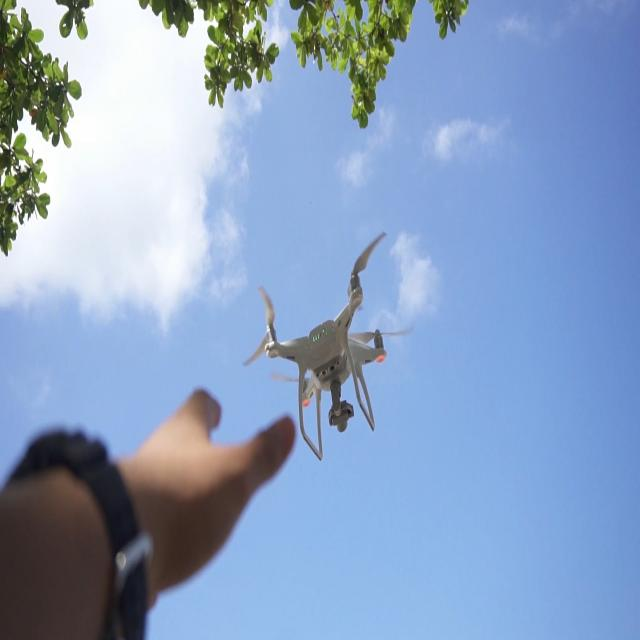Drone: (264, 260, 383, 444)
